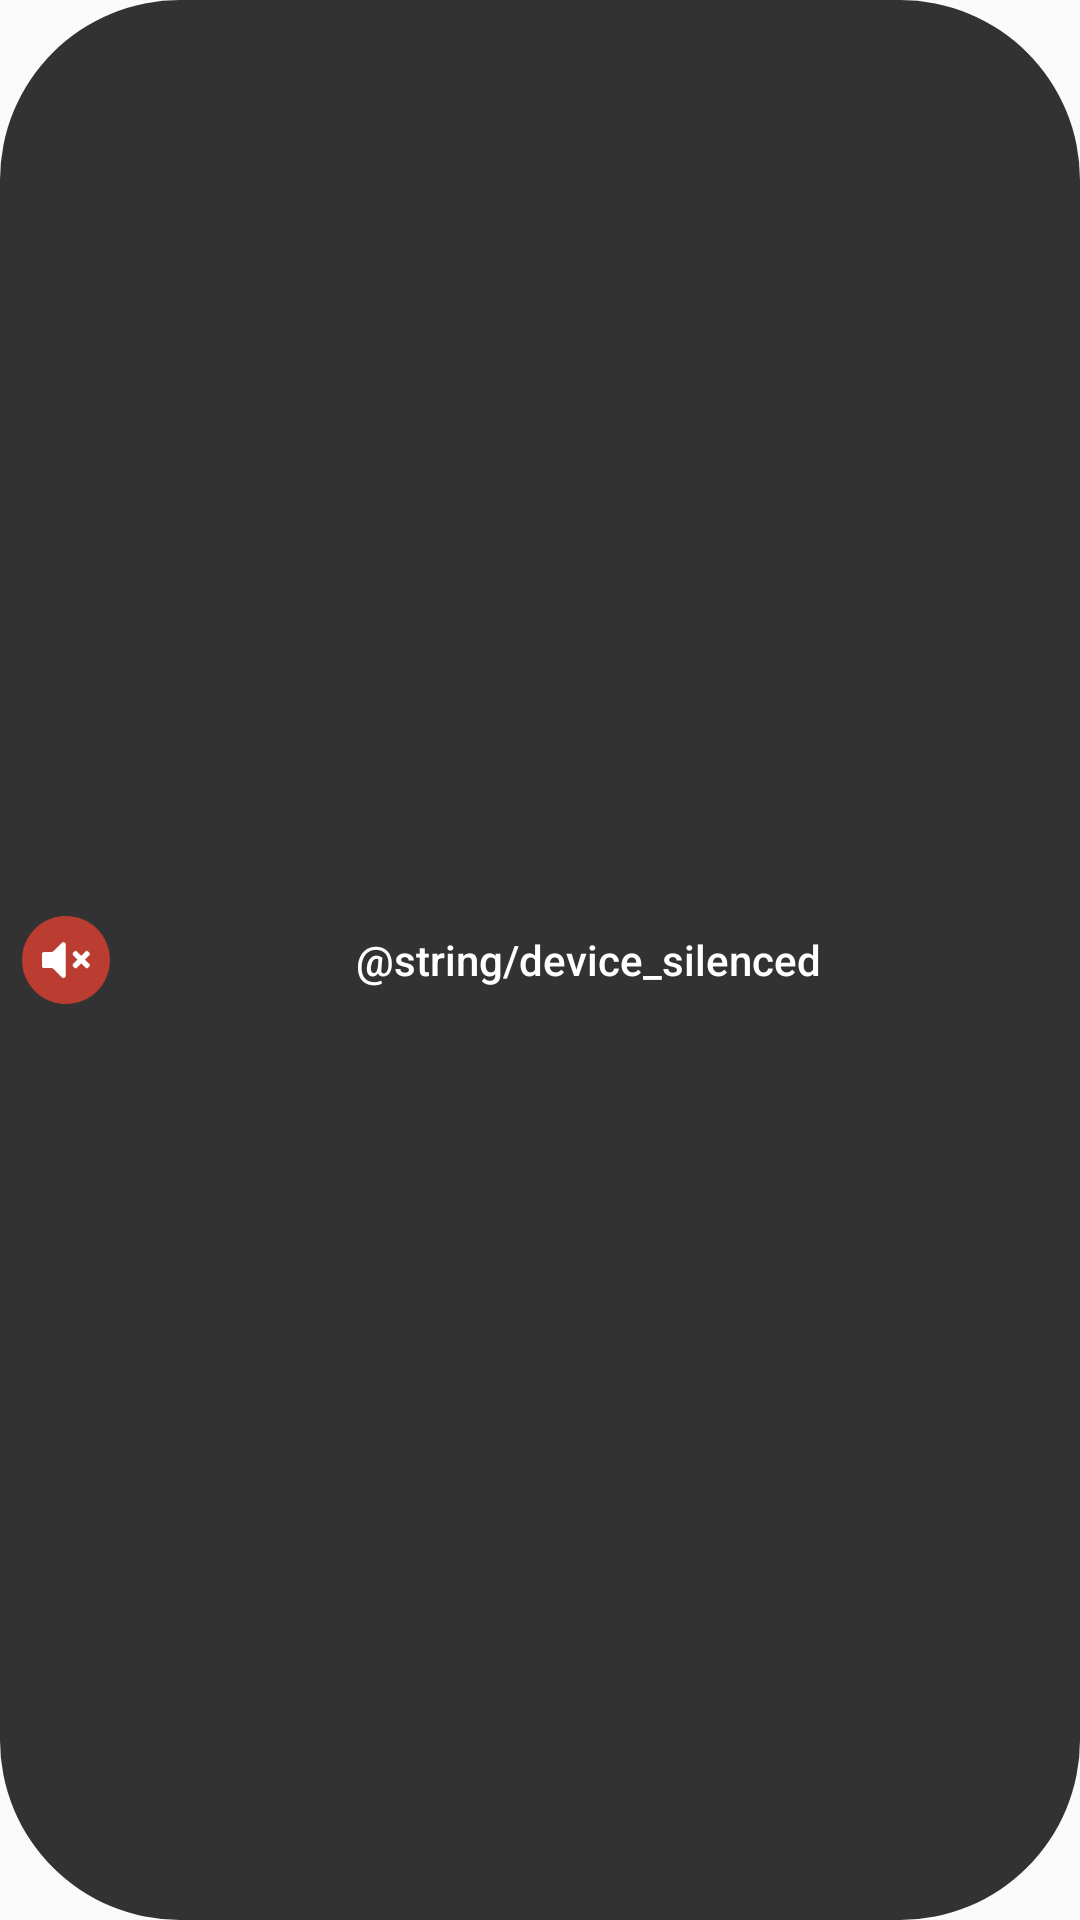

Point at icon controls on the screen. Image size 1080×1920, points as point (x, y).
shortcut shut up: point (66, 960)
